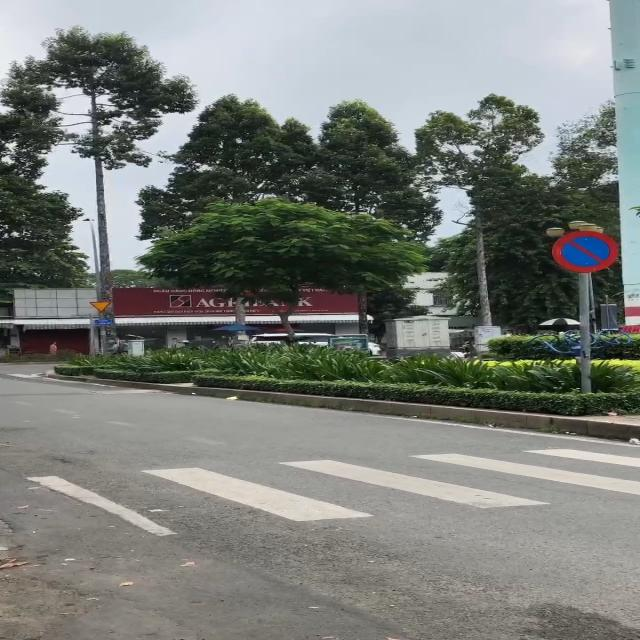Bien bao cam do xe: (550, 226, 628, 278)
Bien bao giao nhau voi duong uu tien: (86, 301, 114, 313)
